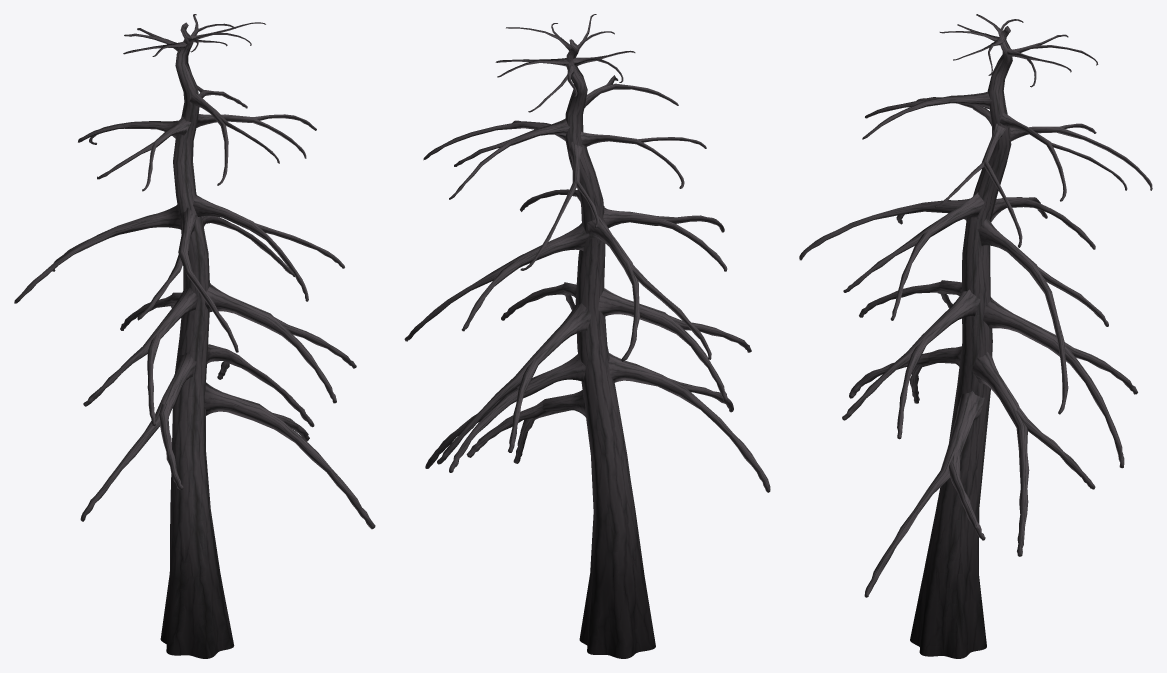
The model's file is DeadTree_5.gltf.
The picture shows the model from 3 angles, left to right: view 1: azimuth 30°, elevation 25°; view 2: azimuth 150°, elevation 25°; view 3: azimuth 270°, elevation 25°; orthographic projection. The views are drawn at different scales.
Parts seen in each view (by area): view 1: DeadTree_5; view 2: DeadTree_5; view 3: DeadTree_5.
Part boxes in pixels (x1,y1,x2,y2): DeadTree_5: [14, 14, 375, 658]; DeadTree_5: [404, 14, 770, 658]; DeadTree_5: [799, 14, 1152, 658].
Size of the model in its own units: 8.36 by 16.44 by 8.41.
Materials: 1 (1 with a texture image).
